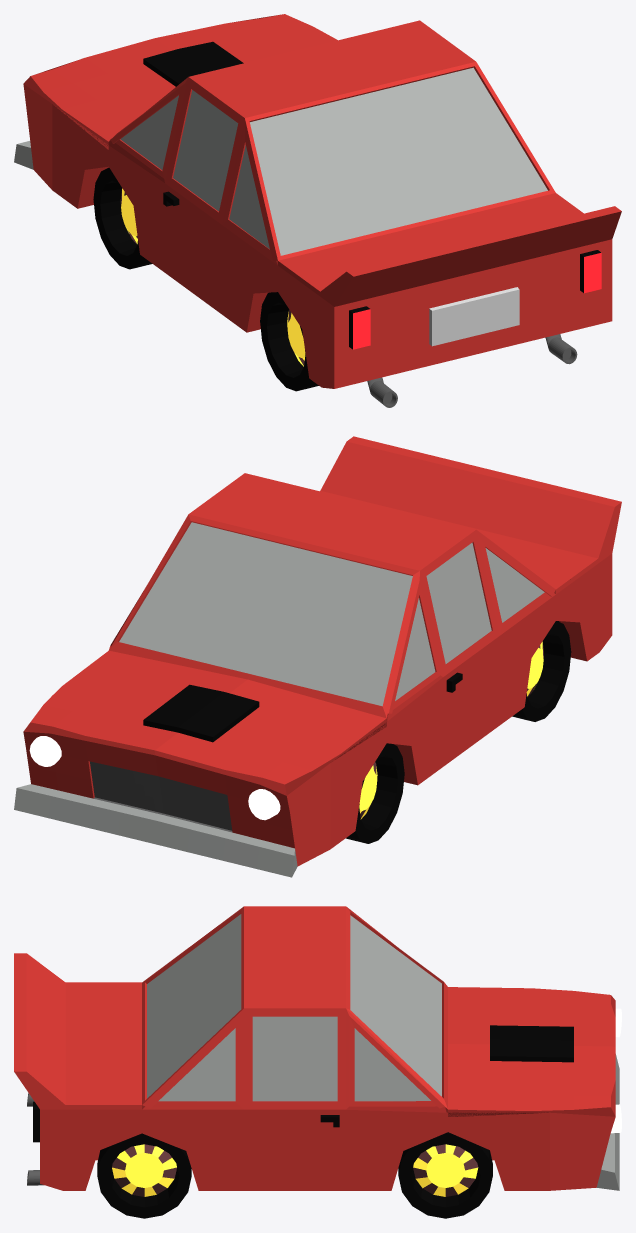
The model's file is automodel.glb.
3 views of the same model, one above another, from view 1: azimuth 30°, elevation 25°; view 2: azimuth 150°, elevation 25°; view 3: azimuth 270°, elevation 25° (orthographic). The views are drawn at different scales.
Visible parts, largest first — view 1: Cube, Cylinder, Cube.002, Cube.001, Cylinder.002; view 2: Cube, Cylinder, Cylinder.001; view 3: Cube, Cylinder.
Part boxes in pixels (bbox=[...]): Cube: bbox=[14, 14, 621, 388]; Cylinder: bbox=[93, 167, 318, 391]; Cube.002: bbox=[429, 287, 519, 346]; Cube.001: bbox=[349, 250, 601, 349]; Cylinder.002: bbox=[367, 334, 577, 407]; Cube: bbox=[14, 436, 621, 877]; Cylinder: bbox=[346, 621, 571, 843]; Cylinder.001: bbox=[29, 736, 280, 820]; Cube: bbox=[14, 906, 619, 1190]; Cylinder: bbox=[97, 1132, 492, 1218].
Size of the model in its own units: 6.63 by 4.95 by 13.36.
